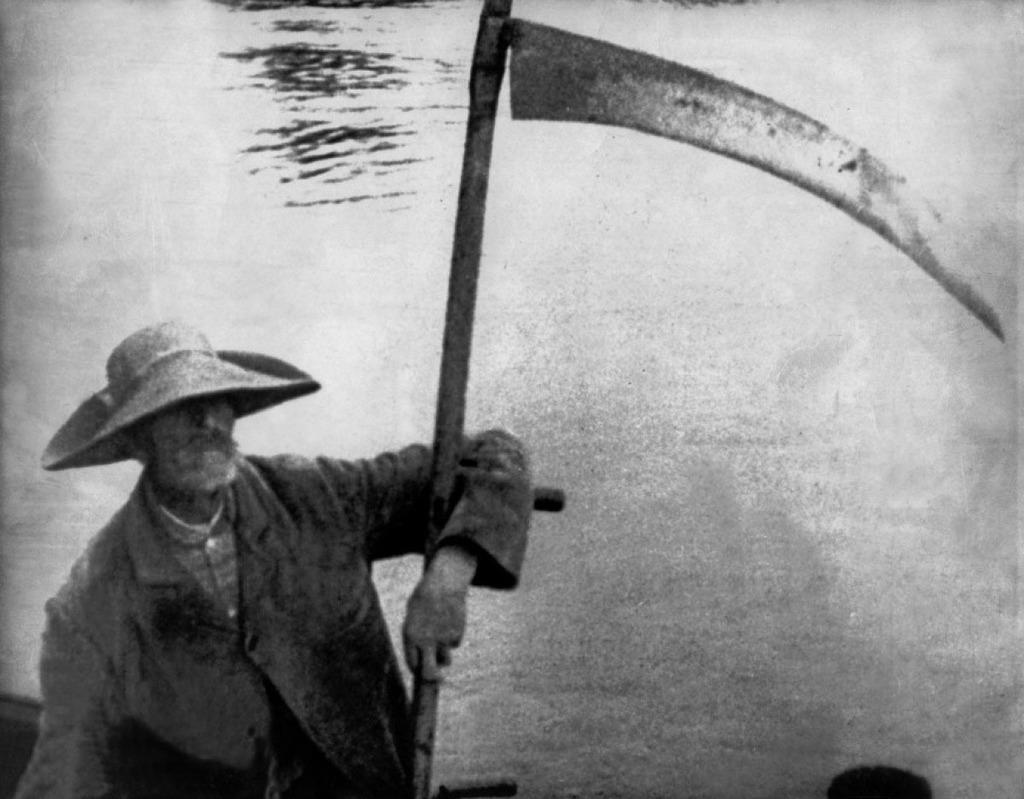Hat: (39, 320, 324, 469)
